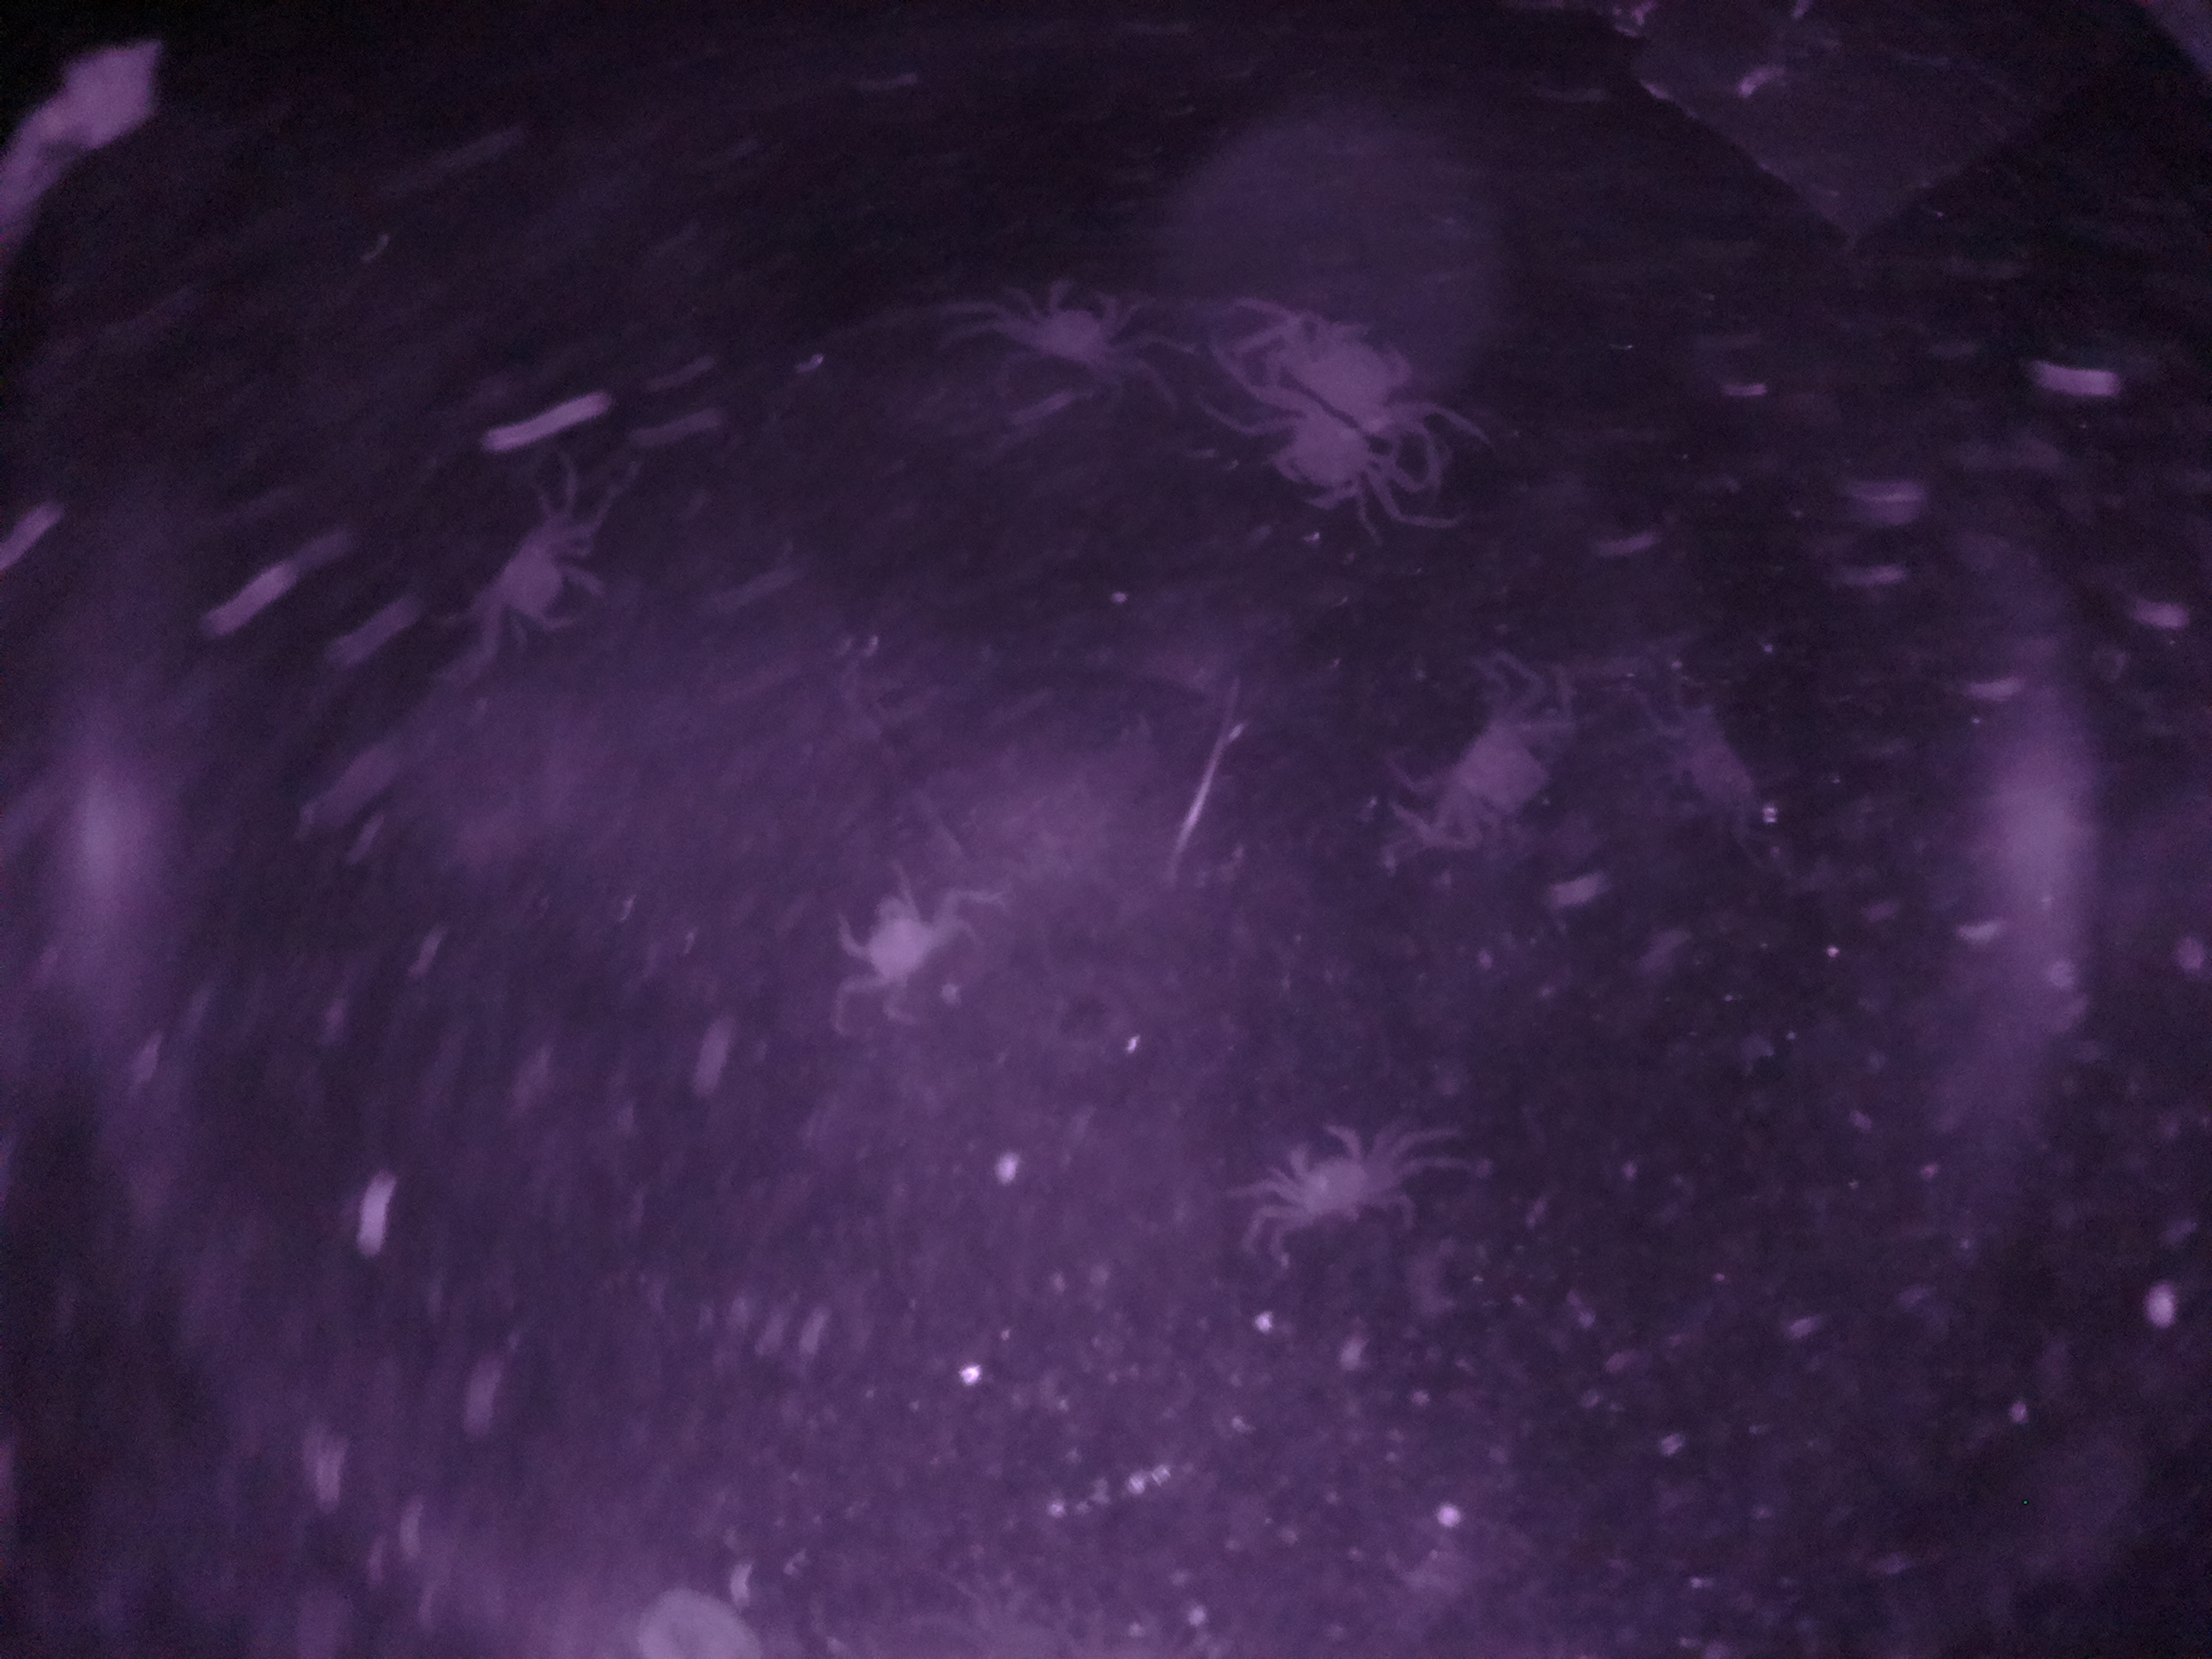Crab: (1270, 1100, 1404, 1248)
